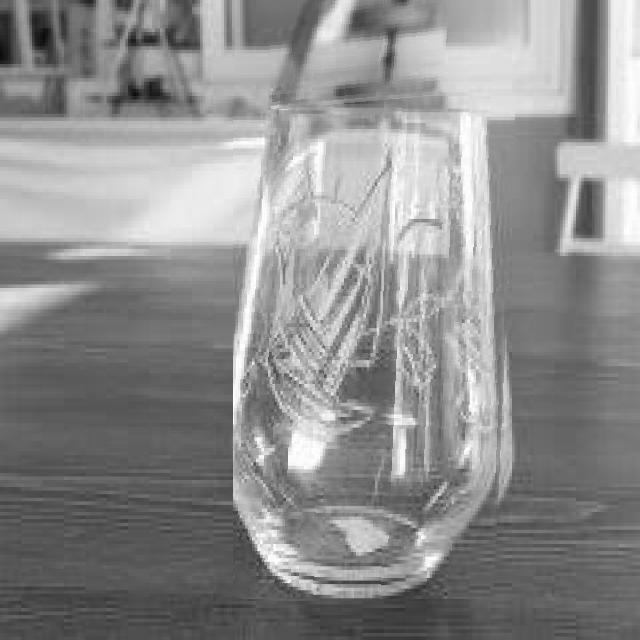Glass: (233, 98, 516, 600), (268, 0, 451, 111)
